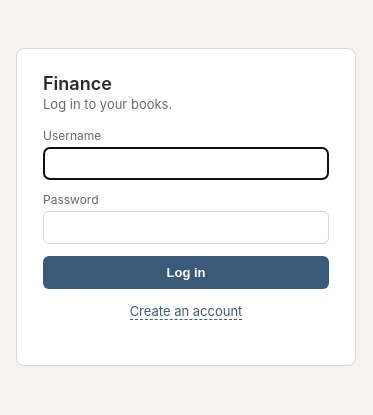
Scenario: offers Create account when registration is open
This screenshot has width=373, height=415.
Click the text "Create an account".
click(186, 312)  # box [130,303,242,320]
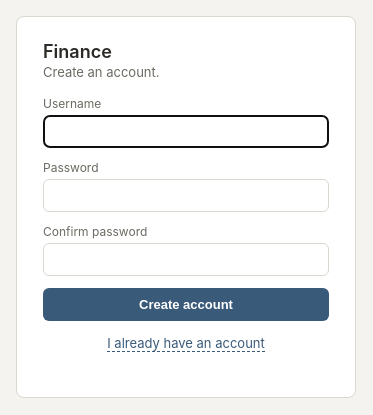
Check: the button "Create account" is shown, box [43,288,329,321]
Click the text "I already have an account".
click(186, 344)  # box [107,335,265,352]
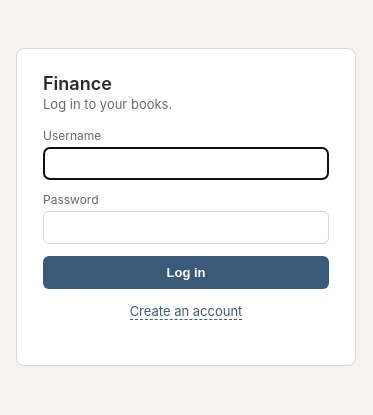
Check: the button "Log in" is shown, box [43,256,329,289]
